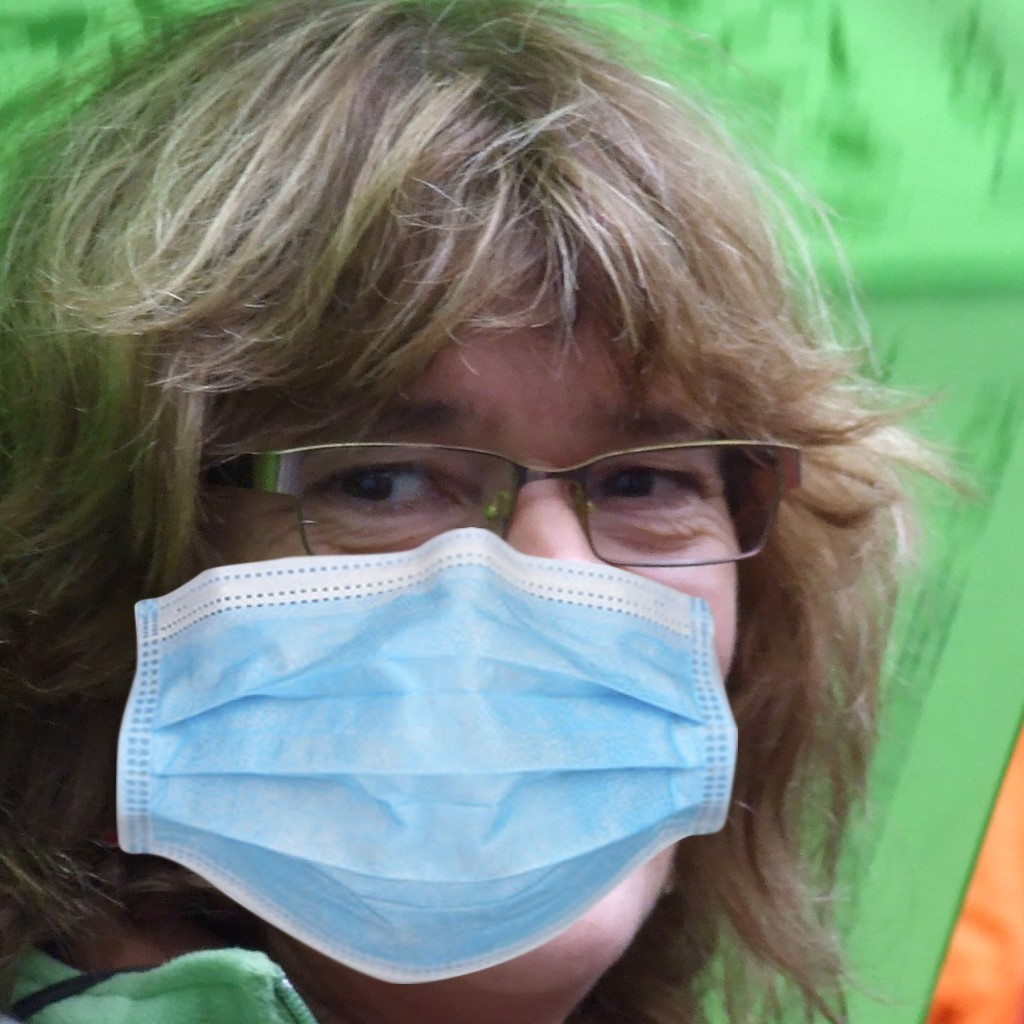con_mascara: (85, 265, 771, 1005)
